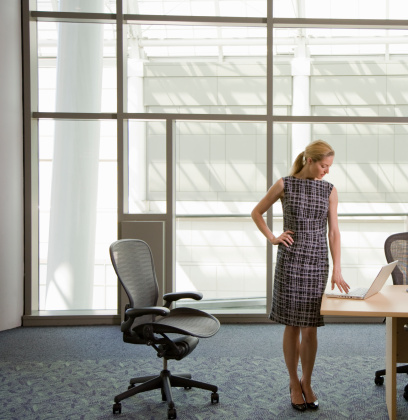em pe: (253, 120, 348, 415)
